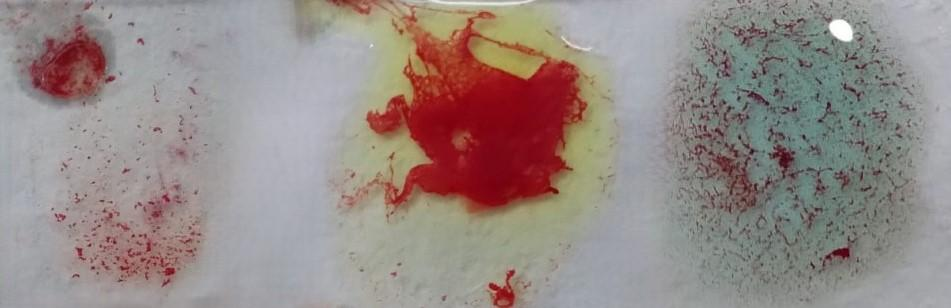A: (677, 0, 917, 294)
B: (358, 4, 603, 308)
D: (49, 4, 226, 286)
